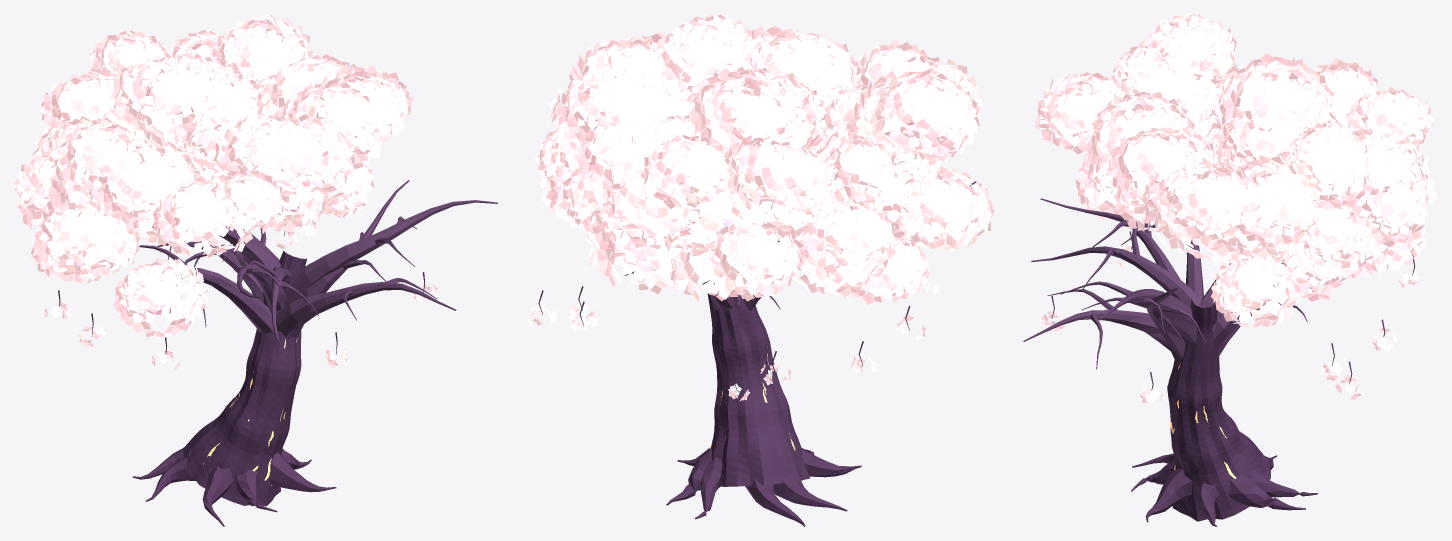
Rendered from sakura_hero_eco.glb.
3 renders of one model, left to right at view 1: azimuth 30°, elevation 25°; view 2: azimuth 150°, elevation 25°; view 3: azimuth 270°, elevation 25°, orthographic. The views are drawn at different scales.
Parts seen in each view (by area): view 1: Sakura_petal_pink, Sakura_petal_blush, Sakura_petal_warm_rose, Trunk_bark_plumblack, Sakura_petal_cream, Branches_plum, Canopy_peach; view 2: Sakura_petal_blush, Sakura_petal_pink, Sakura_petal_warm_rose, Sakura_petal_cream, Trunk_bark_plumblack, Canopy_peach, Branches_plum; view 3: Sakura_petal_pink, Sakura_petal_blush, Sakura_petal_warm_rose, Trunk_bark_plumblack, Sakura_petal_cream, Branches_plum, Canopy_peach.
Boxes of the visible parts, x1,y1,x2,y2 form: Sakura_petal_pink: (16,17,433,371); Sakura_petal_blush: (14,14,438,366); Sakura_petal_warm_rose: (17,15,408,336); Trunk_bark_plumblack: (132,225,409,526); Sakura_petal_cream: (22,15,402,339); Branches_plum: (58,180,497,456); Canopy_peach: (76,55,385,233); Sakura_petal_blush: (529,15,994,401); Sakura_petal_pink: (526,14,994,400); Sakura_petal_warm_rose: (543,17,987,305); Sakura_petal_cream: (538,21,991,298); Trunk_bark_plumblack: (666,290,861,526); Canopy_peach: (563,40,953,278); Branches_plum: (538,181,976,470); Sakura_petal_pink: (1034,15,1433,403); Sakura_petal_blush: (1036,14,1437,402); Sakura_petal_warm_rose: (1049,19,1431,326); Trunk_bark_plumblack: (1131,298,1317,526); Sakura_petal_cream: (1035,14,1430,322); Branches_plum: (1023,198,1415,466); Canopy_peach: (1061,33,1405,309).
Bounding box in the file's own units: 26.07 × 25.89 × 22.96.
